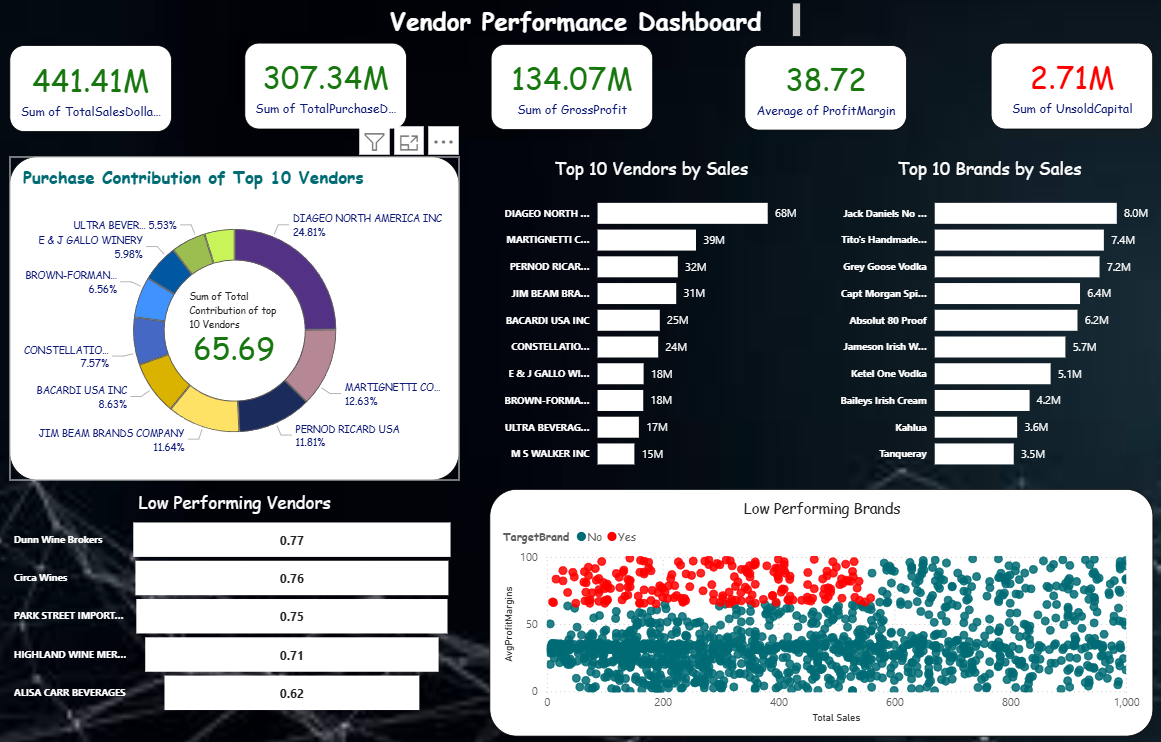

This screenshot's page, from the dashboard's own definition file:
{"tool":"powerbi","page":{"name":"Vendor Sales Summary","canvas":[1280,820],"ordinal":0},"visuals":[{"type":"card","fields":{"Values":["vendor_sales_summary.TotalSalesDollars"]},"box":[14.3,51.4,178.6,94.8],"z":0},{"type":"card","fields":{"Values":["vendor_sales_summary.UnsoldCapital"]},"box":[1092.9,48.6,178.6,94.8],"z":1000},{"type":"card","fields":{"Values":["vendor_sales_summary.ProfitMargin"]},"box":[822.2,51.4,178.6,93.4],"z":2000},{"type":"card","fields":{"Values":["vendor_sales_summary.GrossProfit"]},"box":[542.3,50,178.5,94.2],"z":3000},{"type":"card","fields":{"Values":["vendor_sales_summary.TotalPurchaseDollars"]},"box":[272.6,48.6,178.6,94.8],"z":4000},{"type":"donutChart","title":"Purchase Contribution of Top 10  Vendors","fields":{"Category":["PurchaseContribution.VendorName"],"Y":["PurchaseContribution.PurchaseContribution%"]},"box":[14.3,173.7,494.6,355.9],"z":5000},{"type":"card","title":"Sum of Total Contribution of top 10 Vendors","fields":{"Values":["PurchaseContribution.PurchaseContribution%"]},"box":[200.6,313.3,119.5,96.2],"z":6000},{"type":"barChart","title":"Top 10 Vendors by Sales","fields":{"Category":["vendor_sales_summary.VendorName"],"Y":["vendor_sales_summary.TotalSalesDollars"]},"box":[541.9,173.7,355.9,355.9],"z":7000},{"type":"barChart","title":"Top 10 Brands by Sales","fields":{"Y":["vendor_sales_summary.TotalSalesDollars"],"Category":["vendor_sales_summary.Description"]},"box":[911.5,173.7,360,355.9],"z":8000},{"type":"textbox","box":[391.6,0,496,46.7],"z":8001},{"type":"funnel","title":"Low Performing Vendors","fields":{"Category":["LowTurnoverVendor.VendorName"],"Y":["LowTurnoverVendor.AvgStockTurnover"]},"box":[14,539.3,495,251],"z":8002},{"type":"scatterChart","title":"Low Performing Brands","fields":{"Category":["BrandPerformance.Description"],"X":["BrandPerformance.TotalSales"],"Y":["BrandPerformance.AvgProfitMargin"],"Series":["BrandPerformance.TargetBrand"]},"box":[541.4,538.6,729.6,272.1],"z":8003}]}

Visuals, with their boxes in screenshot pixels (x1, y1, x2, y2), scaled from the page's 1280x820 canvas onto the 1161x742 screenshot:
card - vendor_sales_summary.TotalSalesDollars: bbox(13, 47, 175, 132)
card - vendor_sales_summary.UnsoldCapital: bbox(991, 44, 1153, 130)
card - vendor_sales_summary.ProfitMargin: bbox(746, 47, 908, 131)
card - vendor_sales_summary.GrossProfit: bbox(492, 45, 654, 130)
card - vendor_sales_summary.TotalPurchaseDollars: bbox(247, 44, 409, 130)
"Purchase Contribution of Top 10  Vendors" donutChart: bbox(13, 157, 462, 479)
"Sum of Total Contribution of top 10 Vendors" card: bbox(182, 283, 290, 371)
"Top 10 Vendors by Sales" barChart: bbox(492, 157, 814, 479)
"Top 10 Brands by Sales" barChart: bbox(827, 157, 1153, 479)
textbox: bbox(355, 0, 805, 42)
"Low Performing Vendors" funnel: bbox(13, 488, 462, 715)
"Low Performing Brands" scatterChart: bbox(491, 487, 1153, 734)
